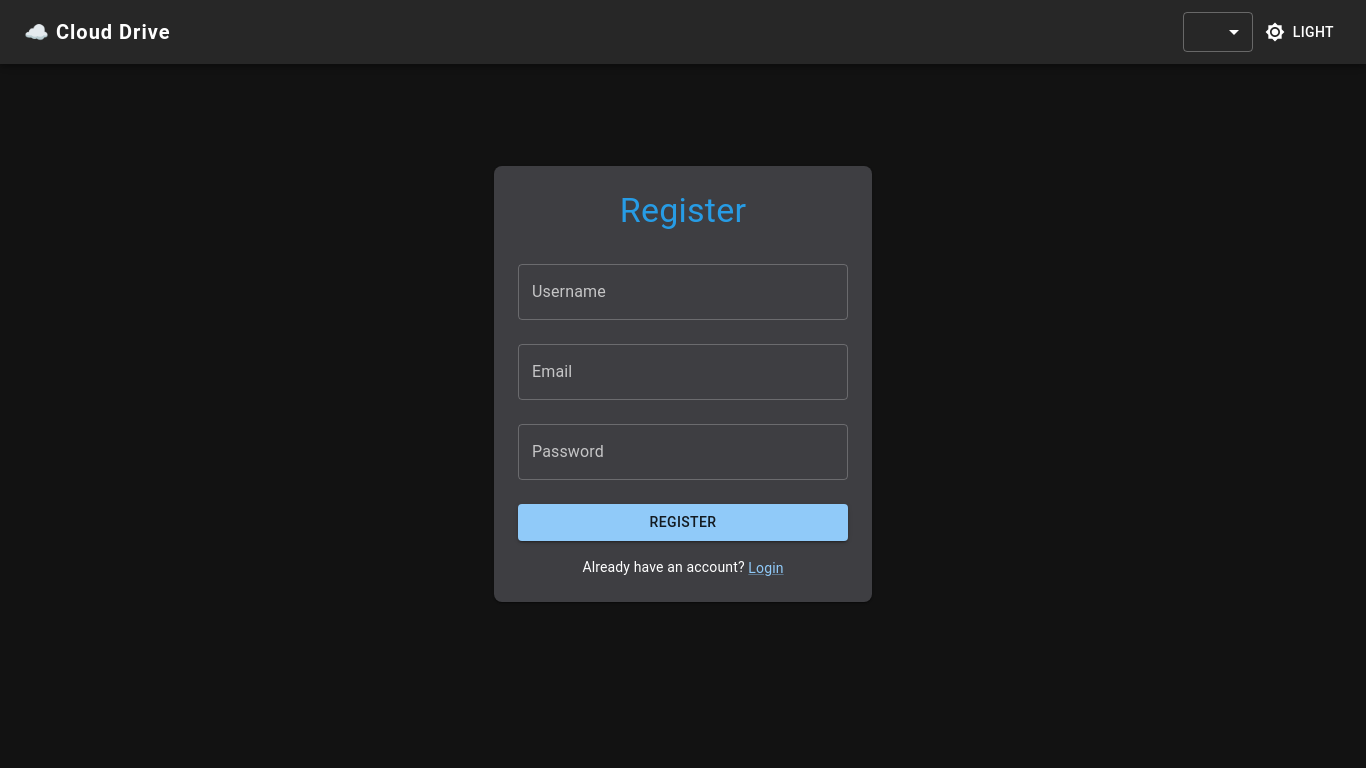
Test: Register Form › shows validation errors returned by the server
Note: Fill in invalid data and submit
Step 1. Type "Ab" into the field labelled "Username" → (683, 292), box [518,264,848,320]
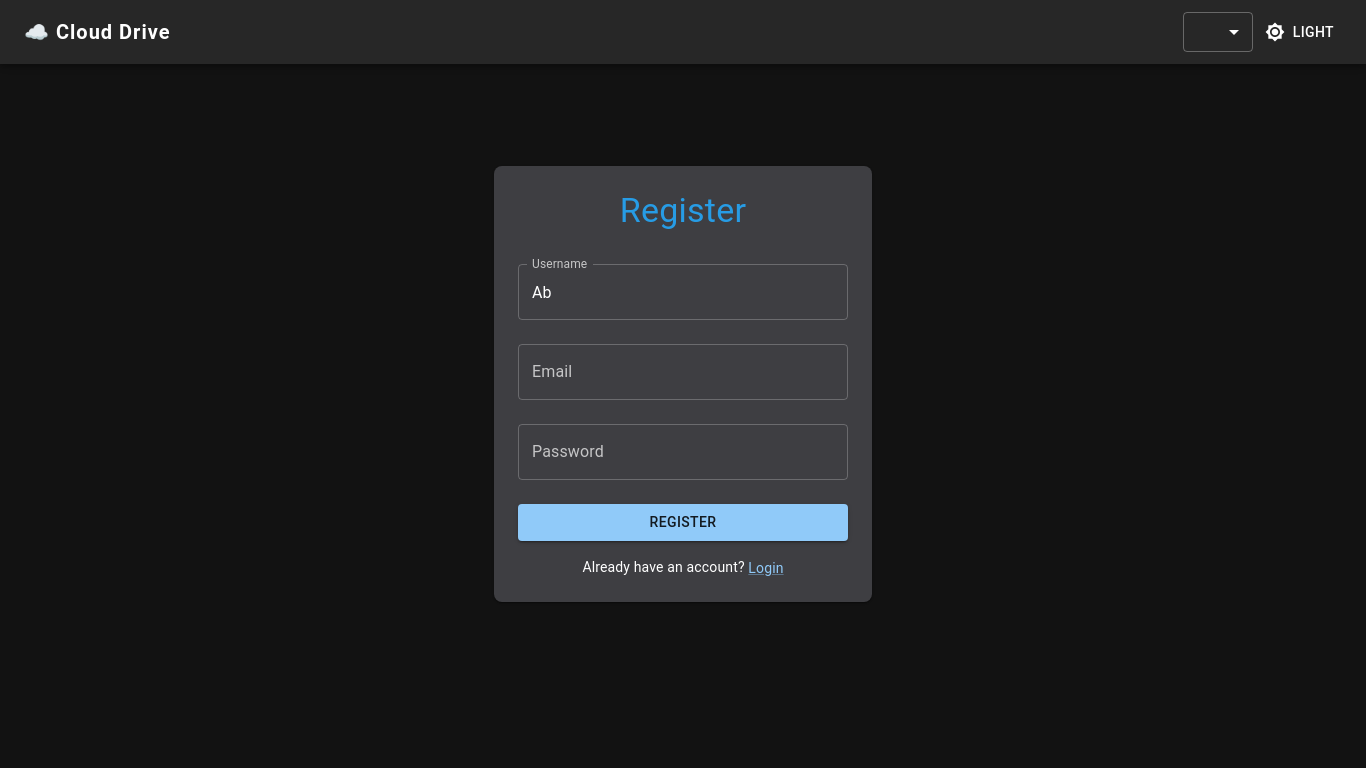
Step 2. Type "a@b.com" into the field labelled "Email" → (683, 372), box [518,344,848,400]
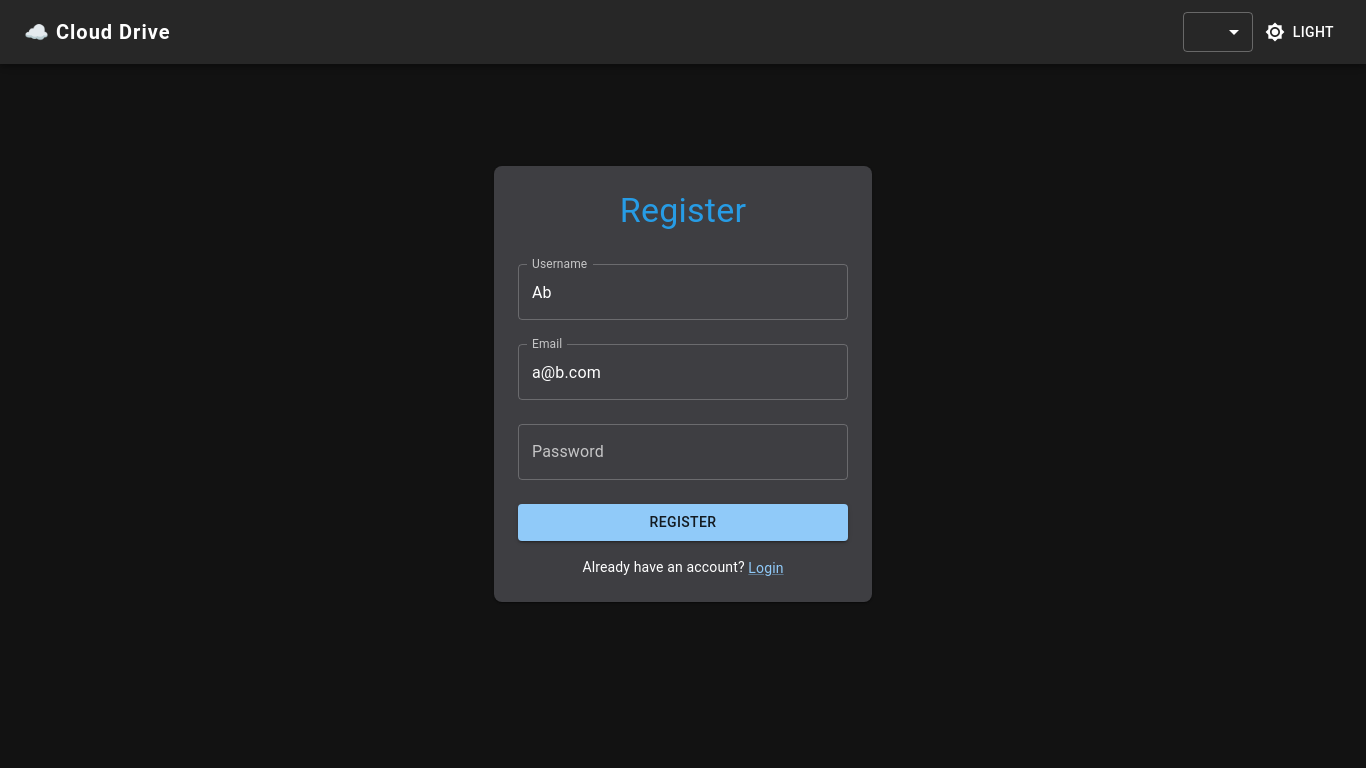
Step 3. Type "x" into the password field labelled "Password" → (683, 452), box [518,424,848,480]
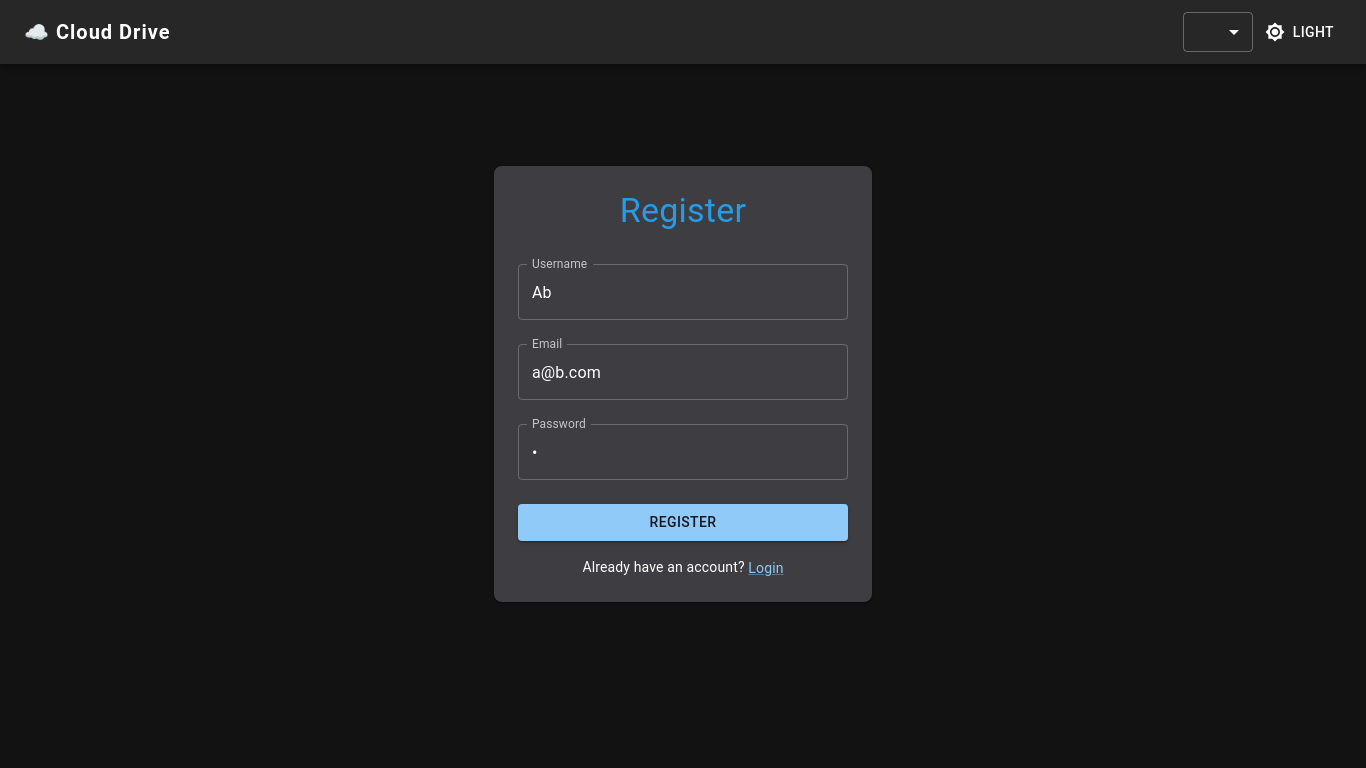
Step 4. Submit the form labelled "Username Email Password Register", box [518,248,848,541]
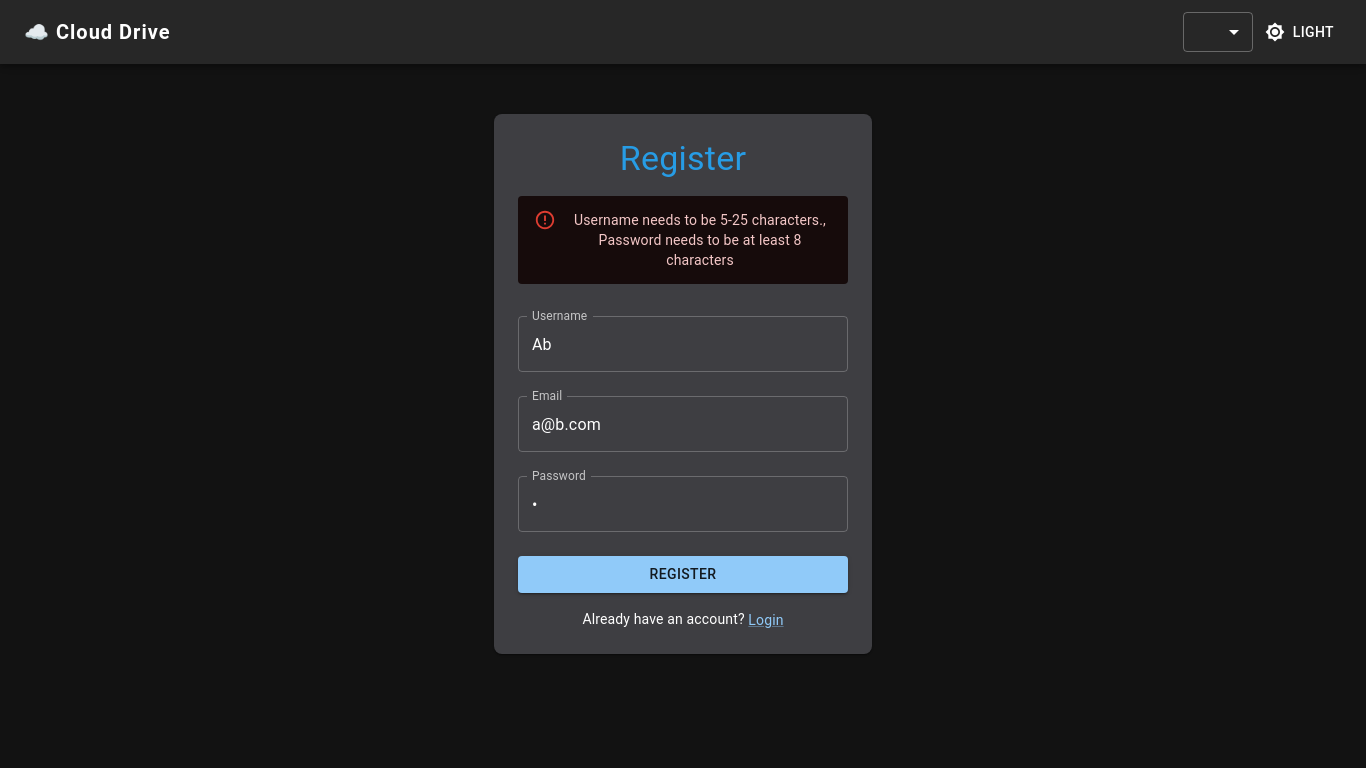
Expected: the message is shown, [518,196,848,284]
Expected: the text "Username needs to be 5-25 characters" is shown, [574,212,826,268]
